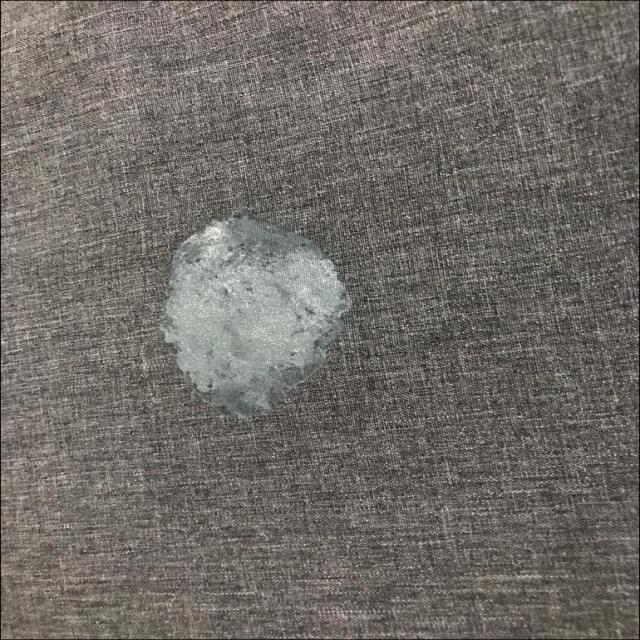Stain: (160, 216, 350, 417)
